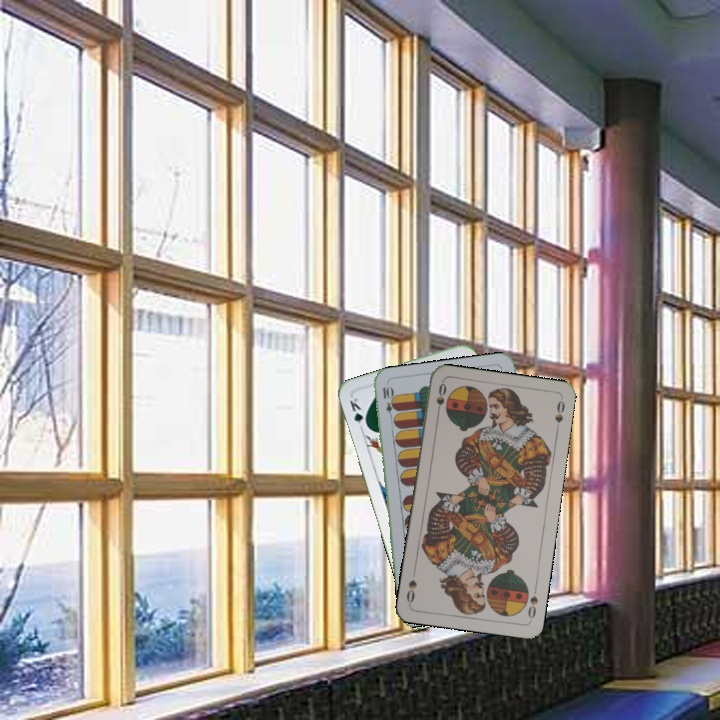E10: (378, 382, 396, 423)
GK: (345, 394, 370, 433)
SO: (432, 379, 449, 419), (524, 582, 540, 623)
